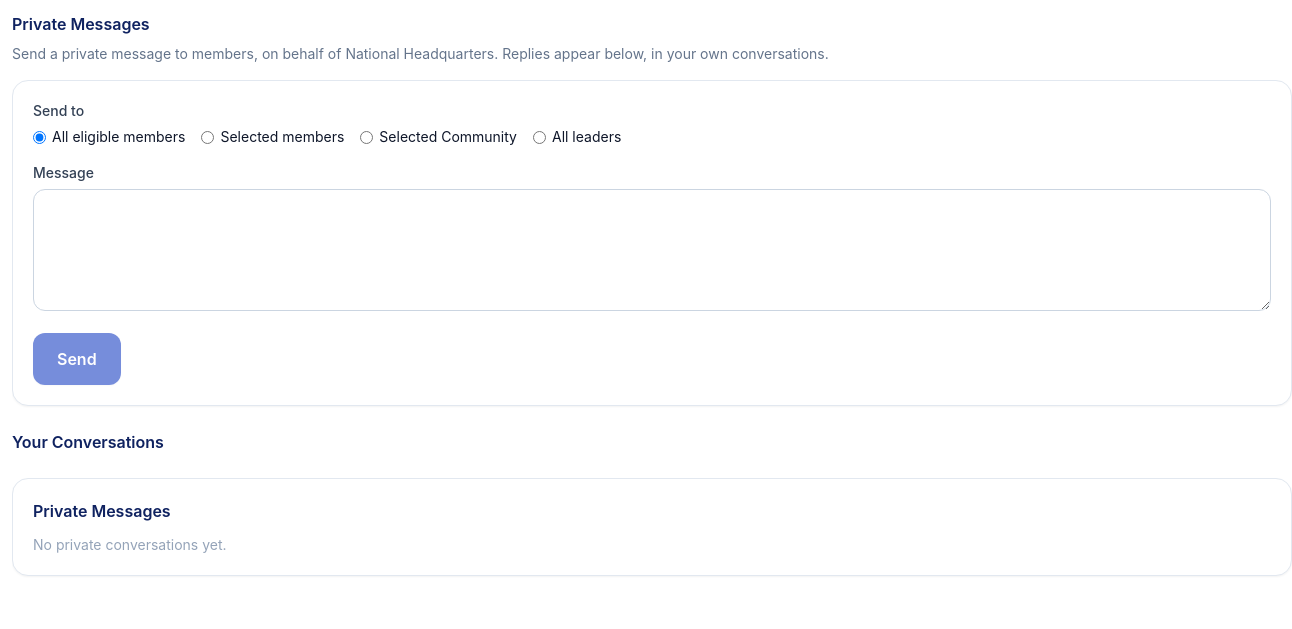
Test: PrivateMessagesTab (Admin) › sends to All Eligible Members by default once a body is entered
The width and height of the screenshot is (1292, 629).
Expected: the text "No private conversations yet." is shown, [33,536,226,553]
Type "Hello everyone" into the text box. click: (652, 250)
box: [33,189,1271,311]
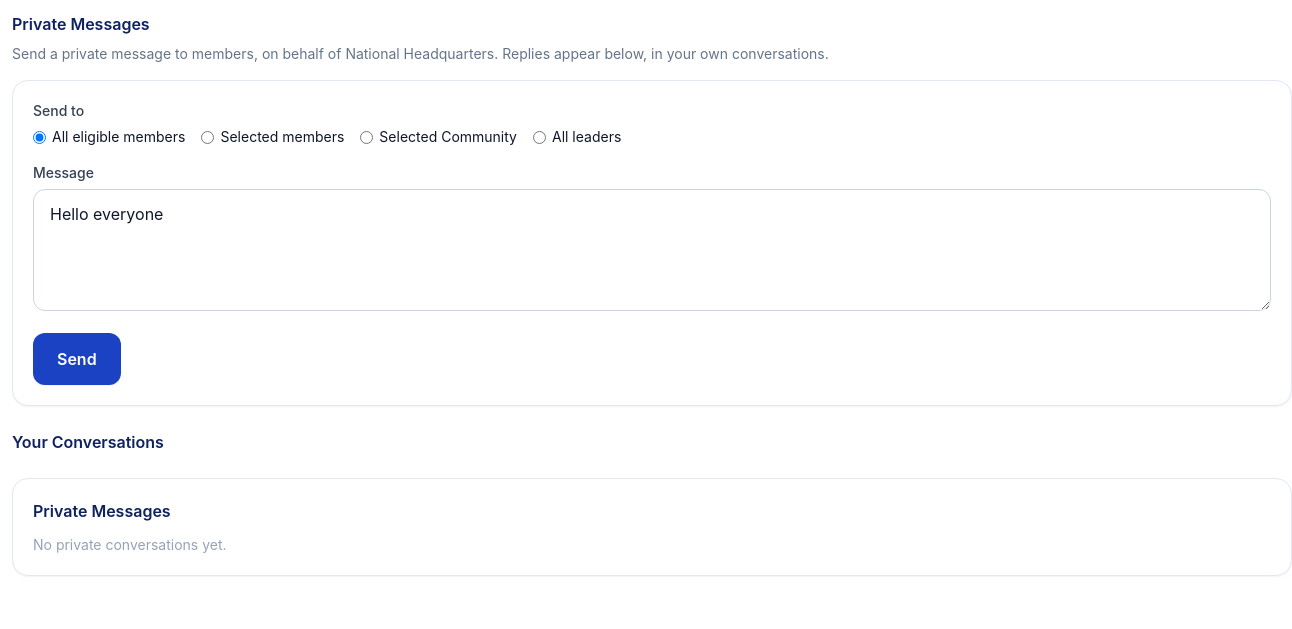
Click the button "Send". click: (77, 359)
box: [33,333,121,385]
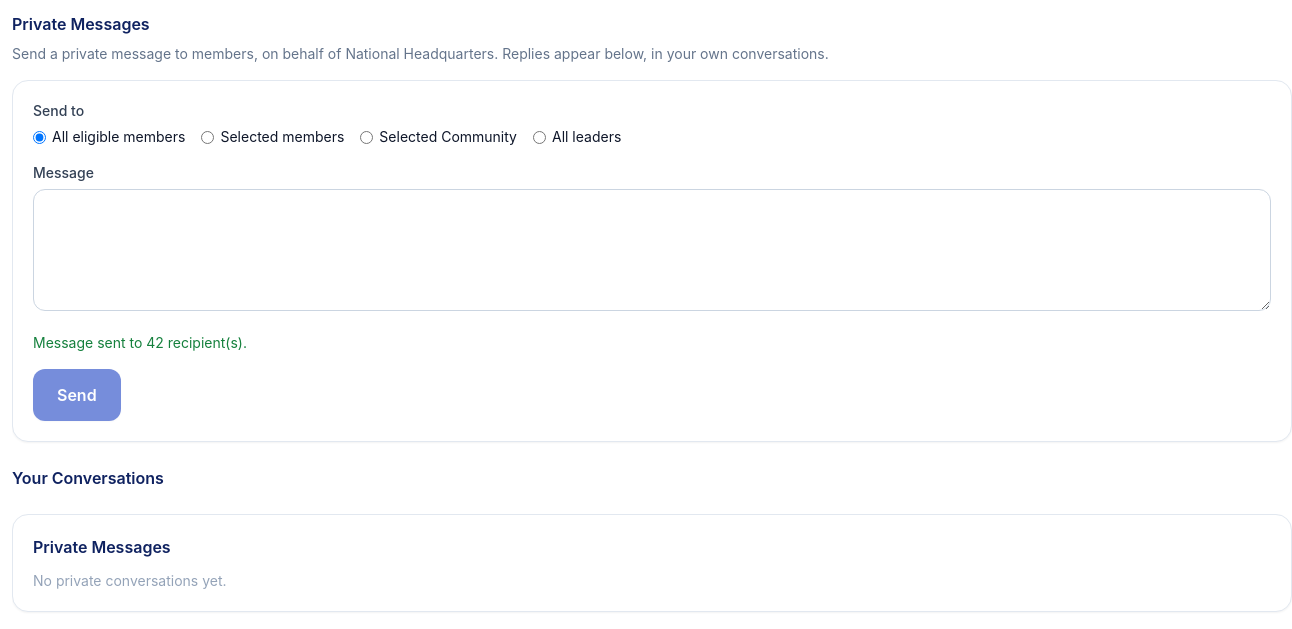
Result: the text "Message sent to 42 recipient(s)." is shown at [33,334,247,351]
